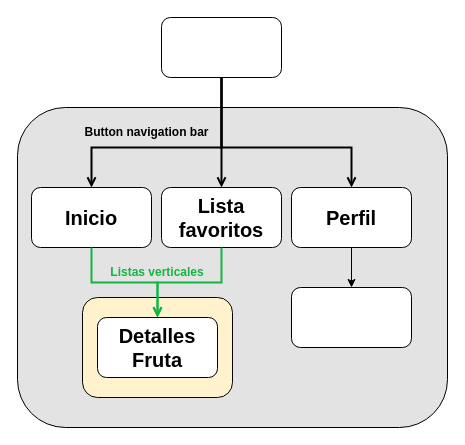
The diagram is 465 pixels wide and 445 high, and some of its shapes have lost their labels. Here are the shapes that lost their labels. From the top down, the centre of each, then its label:
pixel 221 47: Login
pixel 351 317: Ajustes
